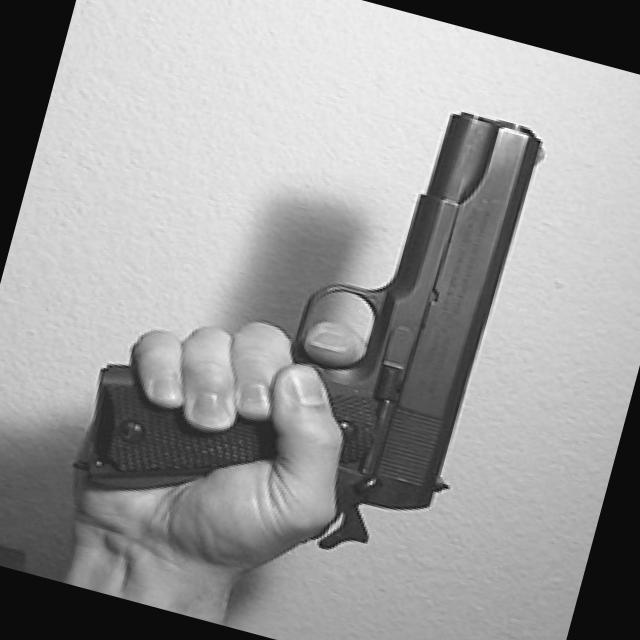handgun: (59, 30, 558, 583)
